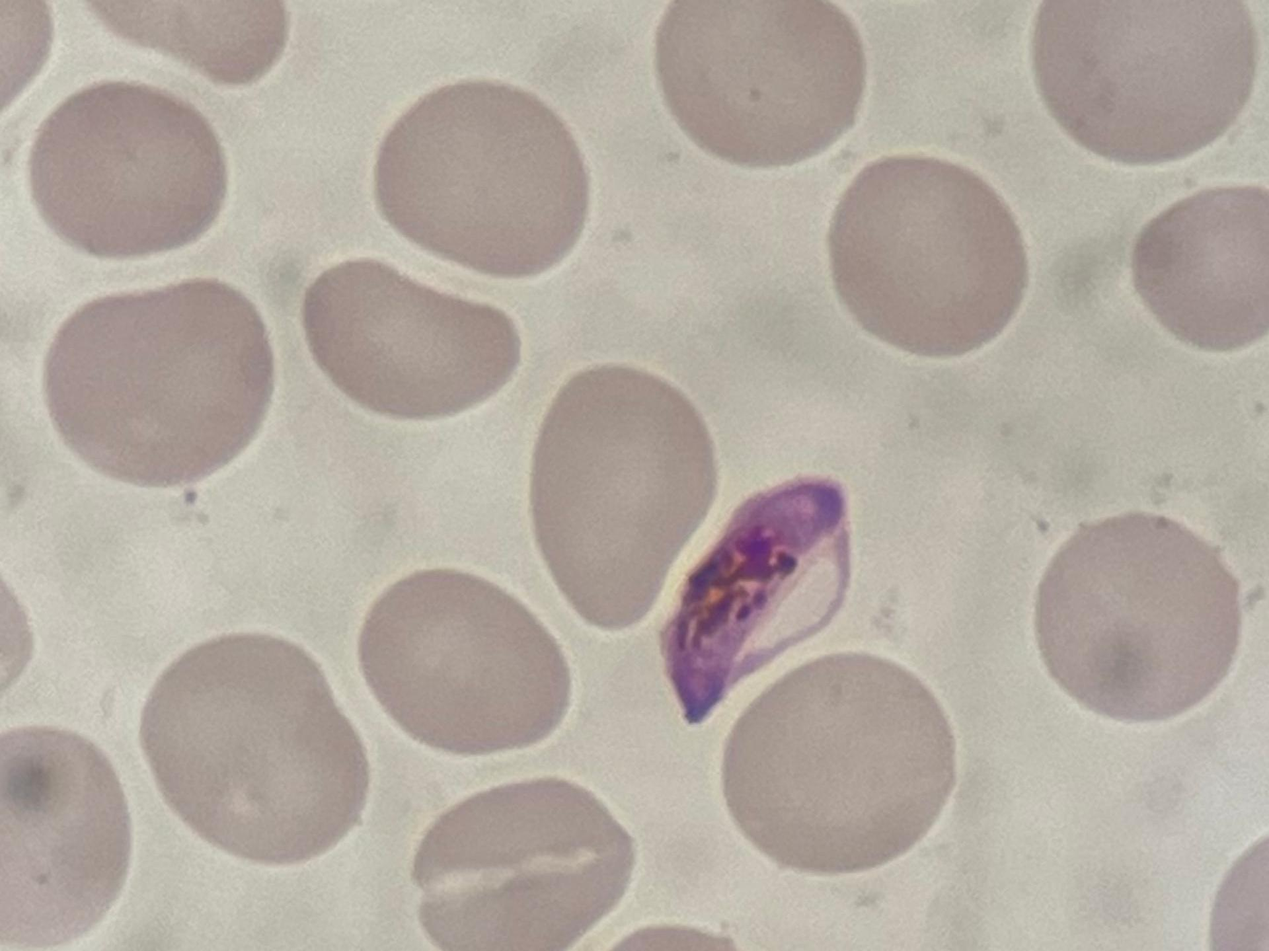Infected: (661, 472, 850, 730)
Uninfected: (141, 635, 372, 865), (723, 655, 956, 875), (533, 362, 721, 633), (46, 278, 273, 487), (1035, 512, 1243, 727), (828, 155, 1030, 362), (379, 80, 589, 279), (361, 565, 573, 755), (414, 783, 636, 951), (1033, 3, 1256, 164), (31, 82, 225, 259), (654, 0, 865, 162), (302, 261, 520, 417), (0, 725, 132, 951), (1128, 195, 1269, 353)
